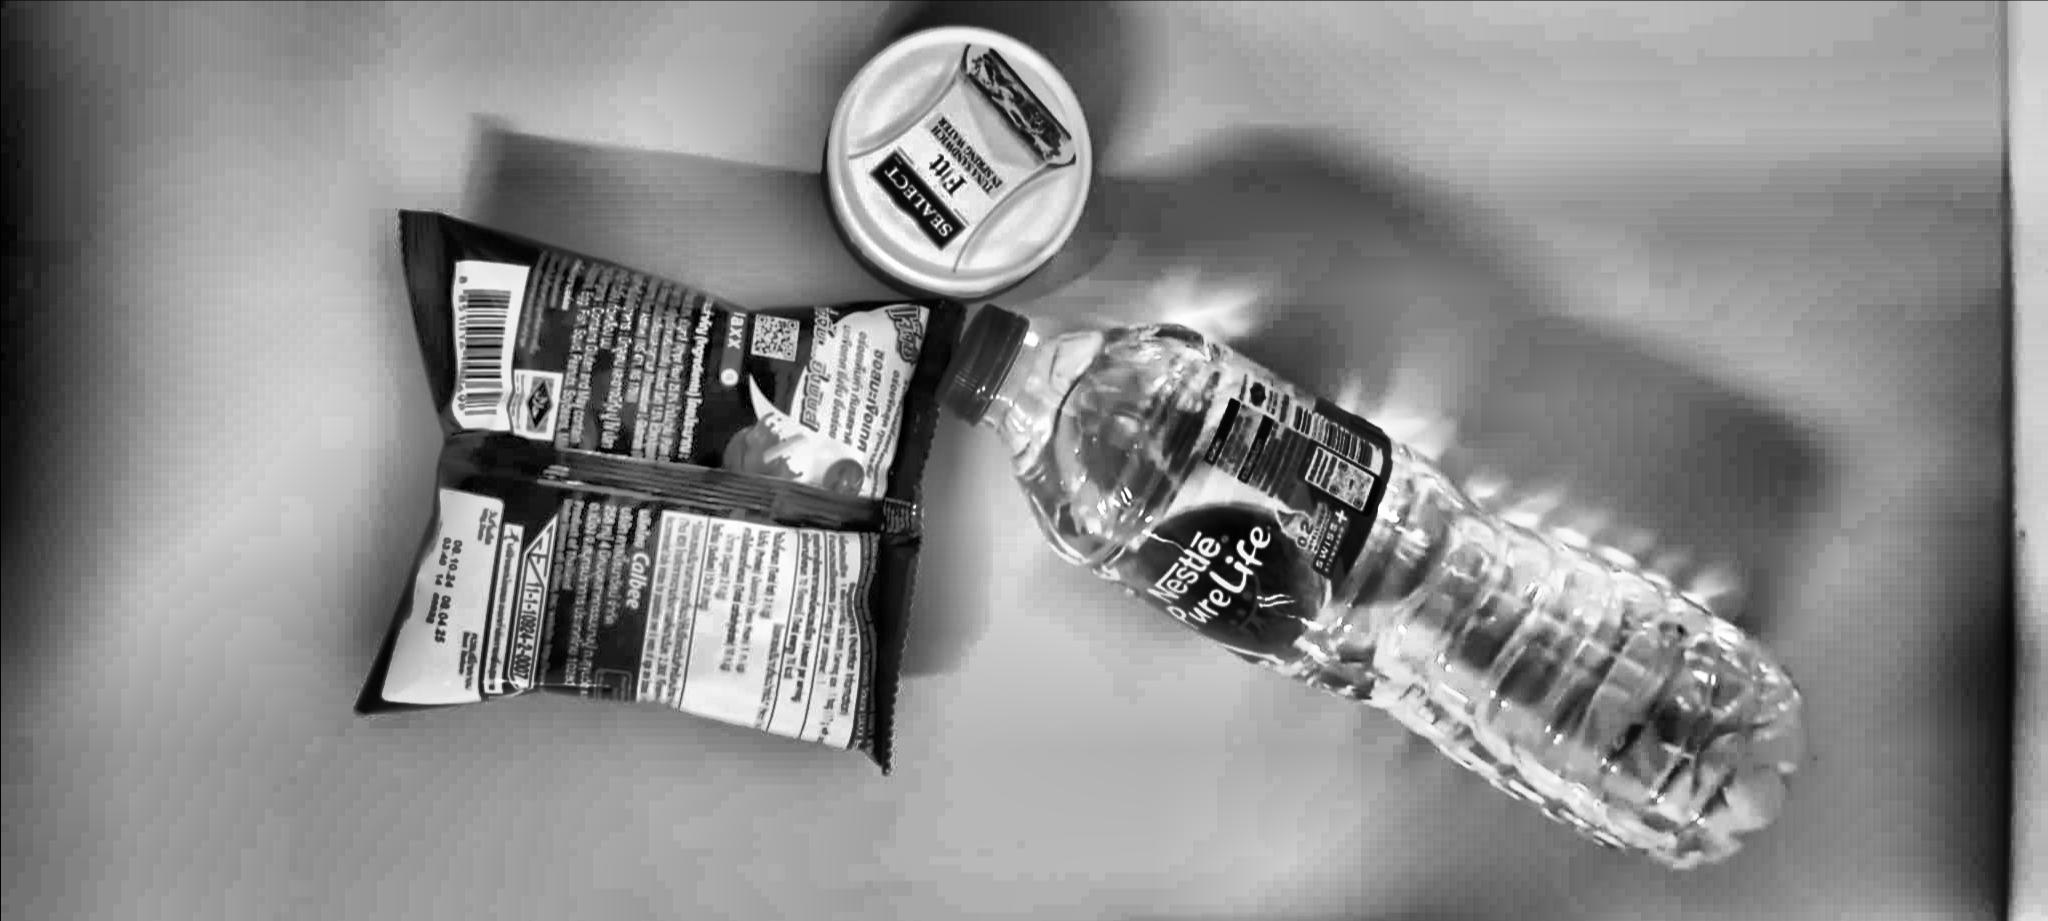can: (812, 6, 1136, 299)
snackbag: (350, 193, 966, 798)
waterbottle: (948, 296, 1826, 884)
